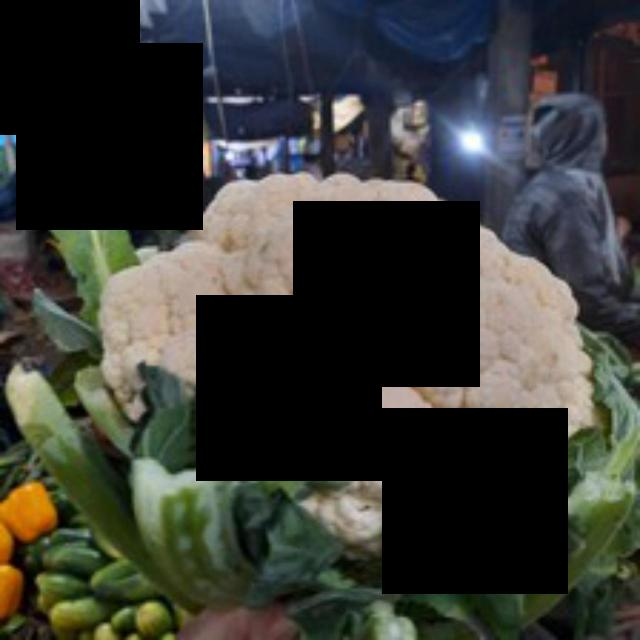cauliflower: (80, 130, 617, 558)
